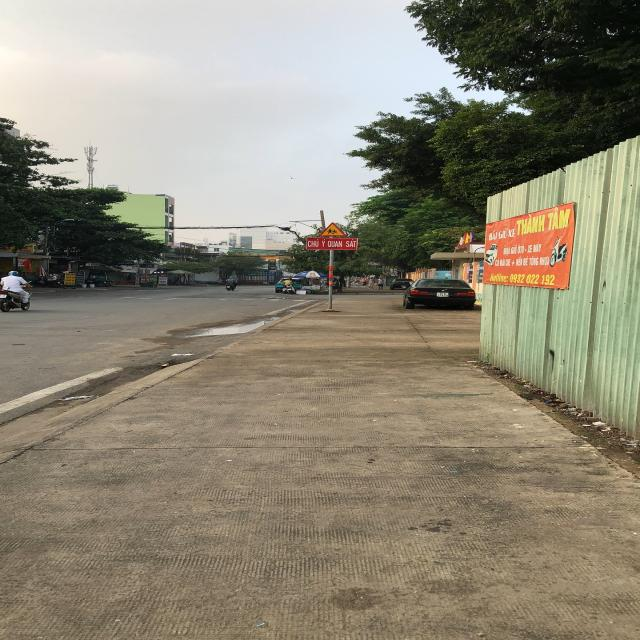Bien bao tre em: (317, 222, 347, 237)
